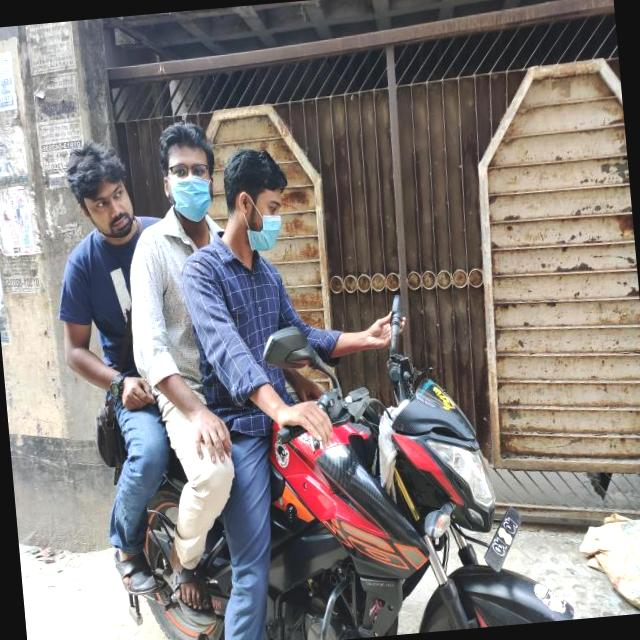motorcycle: (88, 284, 587, 640)
person: (172, 122, 434, 640), (103, 102, 274, 612), (44, 128, 194, 610)
rider_region: (43, 87, 572, 640)
